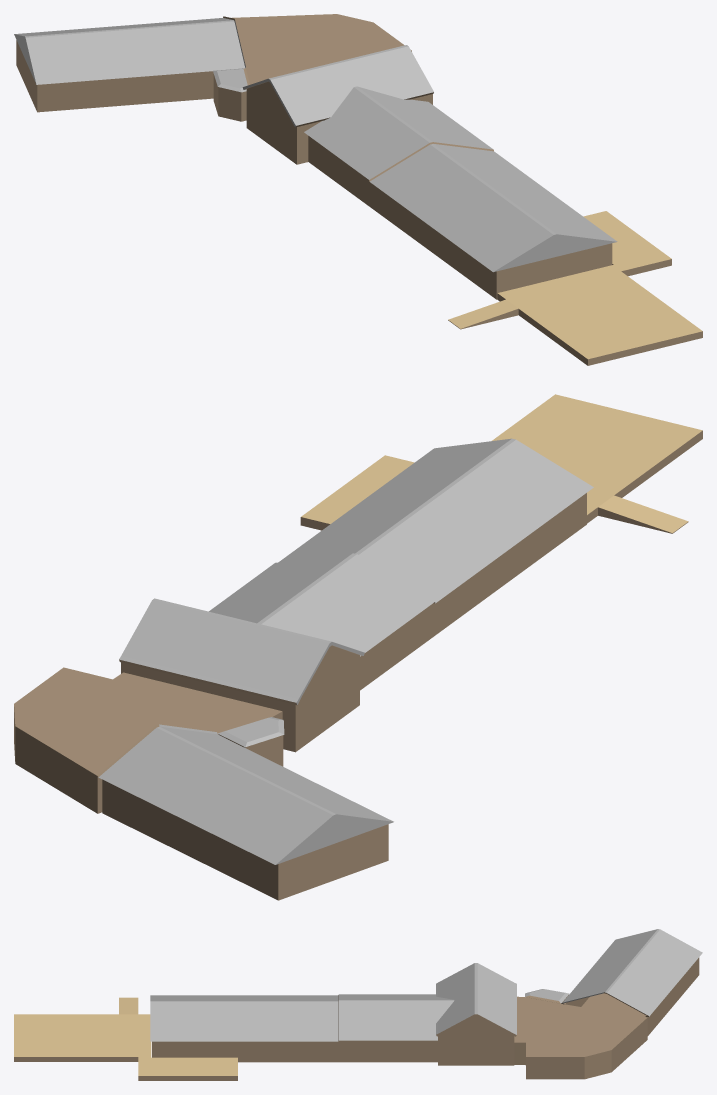
Rendered from sej_pavillion.glb.
3 views of the same model, one above another, from view 1: azimuth 30°, elevation 25°; view 2: azimuth 150°, elevation 25°; view 3: azimuth 270°, elevation 25° (orthographic). The views are drawn at different scales.
Parts seen in each view (by area): view 1: SEJPavillion; view 2: SEJPavillion; view 3: SEJPavillion.
Boxes of the visible parts, x1,y1,x2,y2 form: SEJPavillion: [14, 14, 702, 365]; SEJPavillion: [14, 394, 702, 900]; SEJPavillion: [14, 929, 702, 1080].
Bounding box in the file's own units: 31.84 × 6.41 × 77.83.
1 material, 1 textured.
